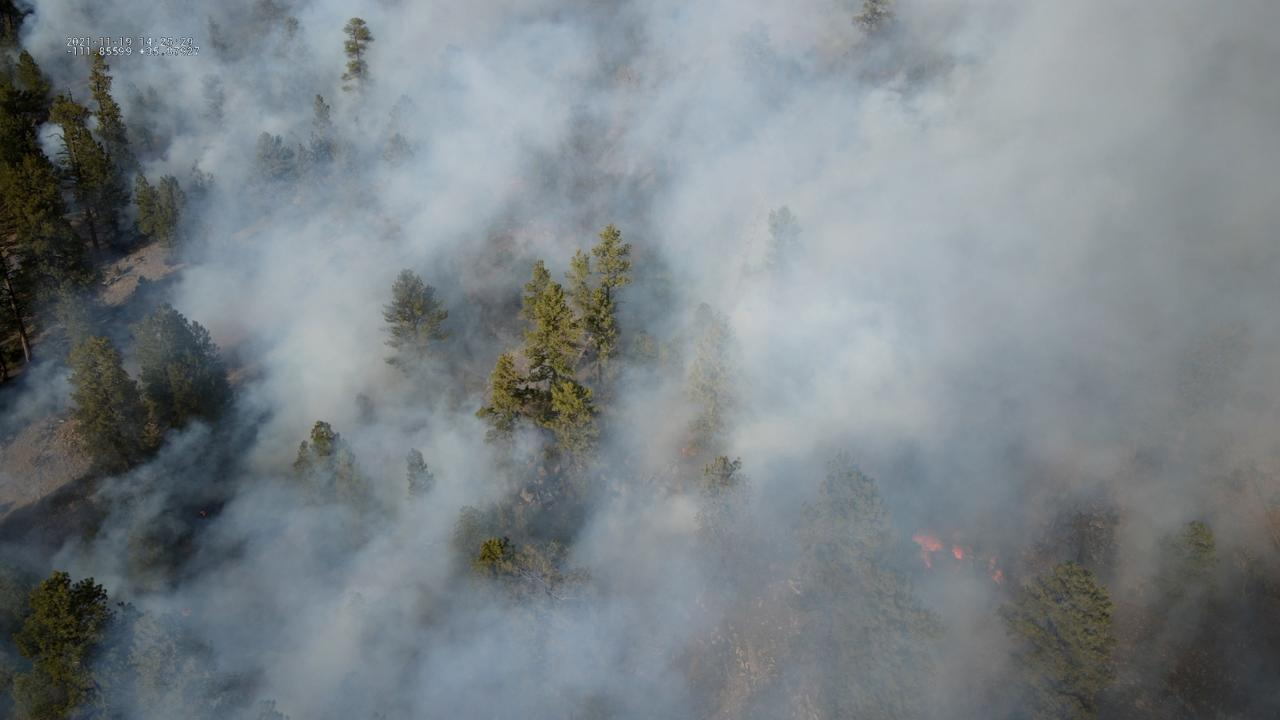fire: (911, 534, 944, 569), (986, 558, 1005, 584), (951, 543, 964, 561), (677, 447, 690, 457)
smoke: (0, 0, 1280, 720)
